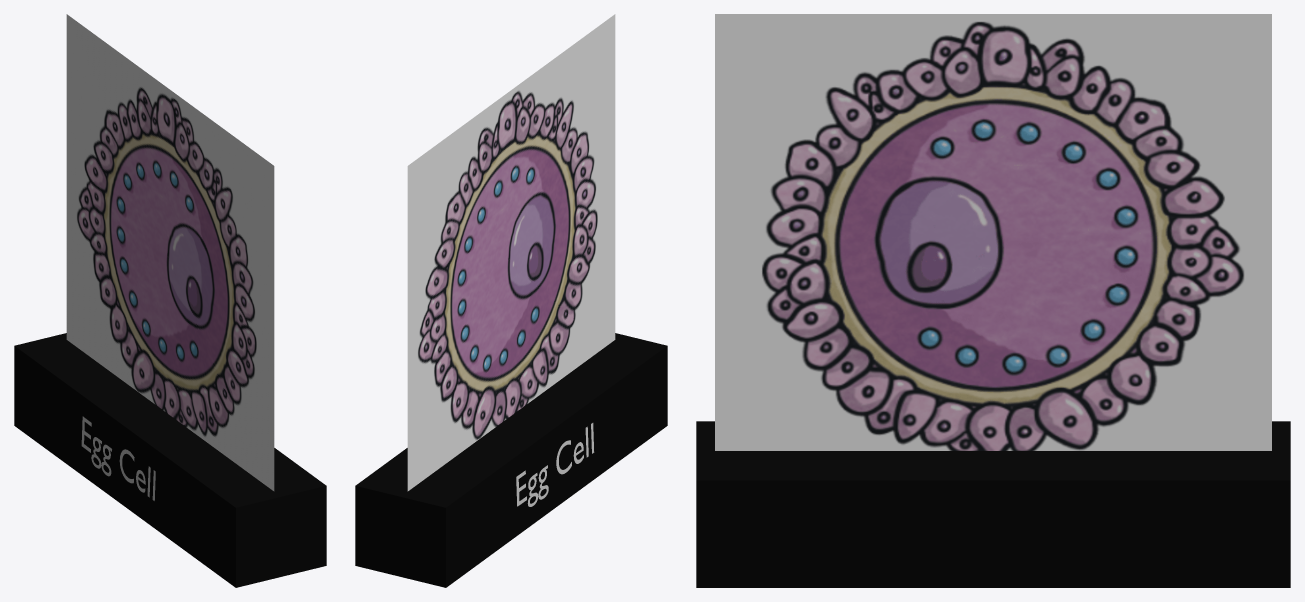
The model's file is eggcellgltf.gltf.
3 views of the same model, side by side, from view 1: azimuth 30°, elevation 25°; view 2: azimuth 150°, elevation 25°; view 3: azimuth 270°, elevation 25° (orthographic). The views are drawn at different scales.
Parts seen in each view (by area): view 1: egg cell, Cube, Text; view 2: egg cell, Cube, Text; view 3: egg cell, Cube.
Boxes of the visible parts, x1,y1,x2,y2 form: egg cell: (66,14,274,491); Cube: (14,333,326,587); Text: (81,416,155,500); egg cell: (407,14,615,491); Cube: (355,333,667,587); Text: (516,423,594,506); egg cell: (715,14,1271,450); Cube: (696,421,1290,587).
Bounding box in the file's own units: 0.2881 × 1.18 × 1.17.
2 materials, 1 textured.
